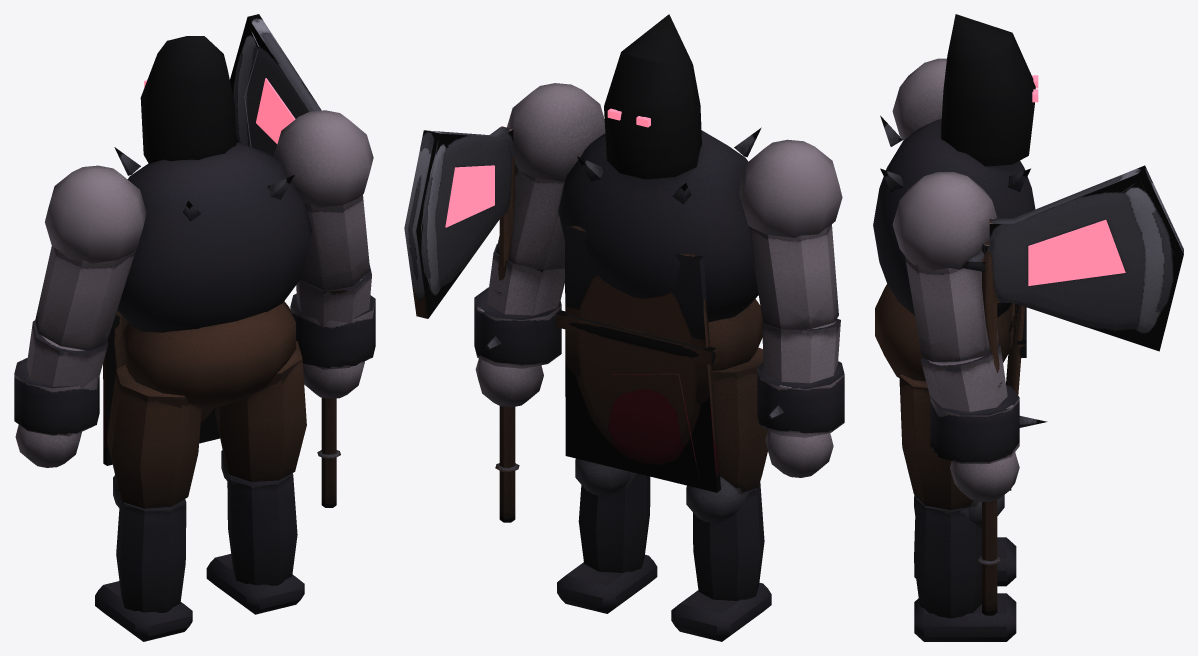
The model's file is elite_throne_executioner.fbx.
The picture shows the model from 3 angles, left to right: view 1: azimuth 30°, elevation 25°; view 2: azimuth 150°, elevation 25°; view 3: azimuth 270°, elevation 25°; orthographic projection. The views are drawn at different scales.
Visible parts, largest first — view 1: Body, ForearmR, ArmL, ArmR, Head, LegL, KneeL, KneeR, ForearmL, LegR, ForearmR_Glow_Crimson; view 2: Body, ForearmR, ArmL, Head, ArmR, ForearmL, KneeL, KneeR, LegL, ForearmR_Glow_Crimson; view 3: ForearmR, ArmR, Body, Head, KneeR, LegR, ForearmR_Glow_Crimson, ArmL, KneeL.
Boxes of the visible parts, left/top/right/bottom form: Body: left=103, top=142, right=311, bottom=465; ForearmR: left=230, top=14, right=375, bottom=507; ArmL: left=35, top=165, right=146, bottom=350; ArmR: left=274, top=110, right=373, bottom=290; Head: left=140, top=36, right=236, bottom=164; LegL: left=107, top=365, right=201, bottom=508; KneeL: left=95, top=475, right=192, bottom=641; KneeR: left=206, top=450, right=304, bottom=614; ForearmL: left=14, top=320, right=108, bottom=467; LegR: left=215, top=341, right=306, bottom=481; ForearmR_Glow_Crimson: left=256, top=78, right=295, bottom=144; Body: left=556, top=127, right=762, bottom=492; ForearmR: left=404, top=126, right=564, bottom=522; ArmL: left=739, top=139, right=842, bottom=329; Head: left=604, top=14, right=701, bottom=179; ArmR: left=496, top=83, right=605, bottom=269; ForearmL: left=757, top=318, right=844, bottom=477; KneeL: left=671, top=476, right=771, bottom=641; KneeR: left=557, top=458, right=657, bottom=613; LegL: left=712, top=347, right=767, bottom=492; ForearmR_Glow_Crimson: left=445, top=165, right=494, bottom=227; ForearmR: left=920, top=165, right=1183, bottom=615; ArmR: left=892, top=172, right=998, bottom=361; Body: left=873, top=115, right=1035, bottom=490; Head: left=941, top=14, right=1035, bottom=166; KneeR: left=914, top=495, right=1016, bottom=641; LegR: left=899, top=374, right=973, bottom=510; ForearmR_Glow_Crimson: left=1028, top=219, right=1125, bottom=285; ArmL: left=892, top=58, right=946, bottom=140; KneeL: left=914, top=495, right=1016, bottom=586.
Size of the model in its own units: 551 by 871 by 416.
Materials: 2 (1 with a texture image).
